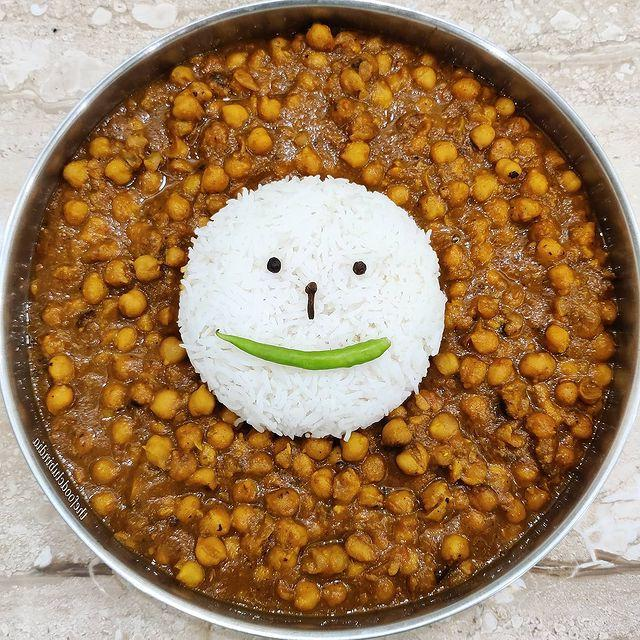Chole: (126, 438, 506, 610), (446, 154, 612, 478), (132, 38, 480, 178), (25, 193, 184, 447)
